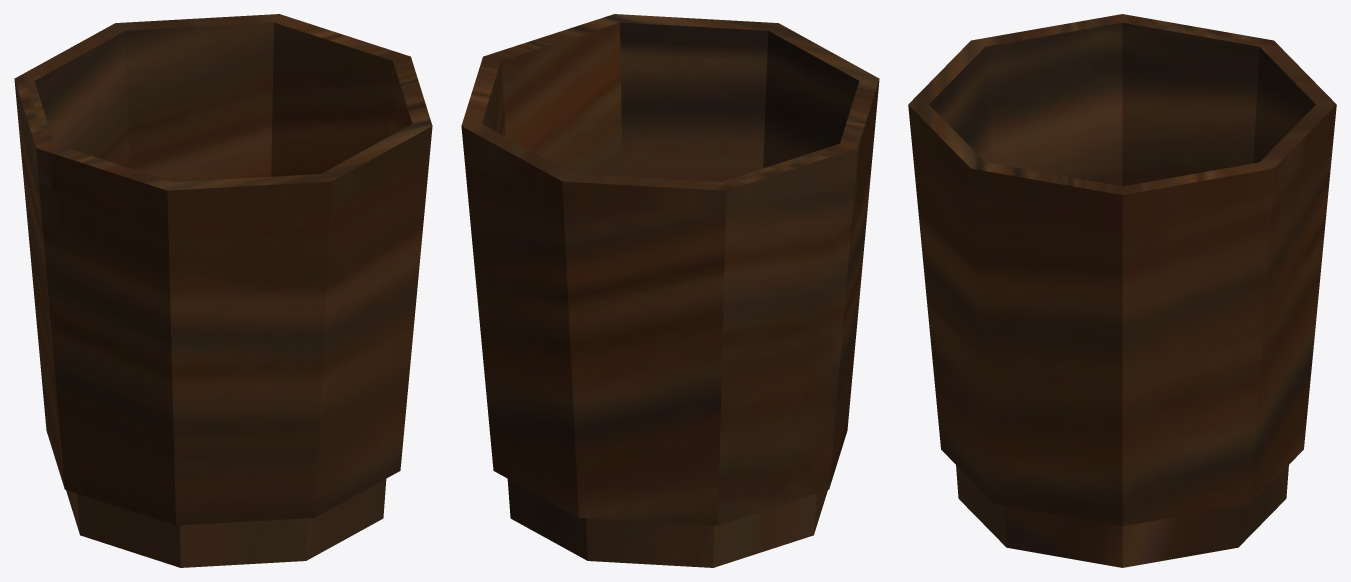
The model's file is Basket_3.fbx.
The picture shows the model from 3 angles, left to right: view 1: azimuth 30°, elevation 25°; view 2: azimuth 150°, elevation 25°; view 3: azimuth 270°, elevation 25°; orthographic projection.
Visible parts, largest first — view 1: Basket_3; view 2: Basket_3; view 3: Basket_3.
Boxes of the visible parts, <box> form: Basket_3: <box>14,14,432,567</box>; Basket_3: <box>461,14,879,567</box>; Basket_3: <box>908,14,1336,567</box>.
Bounding box in the file's own units: 3 × 3.04 × 3.
Materials: 1 (1 with a texture image).
